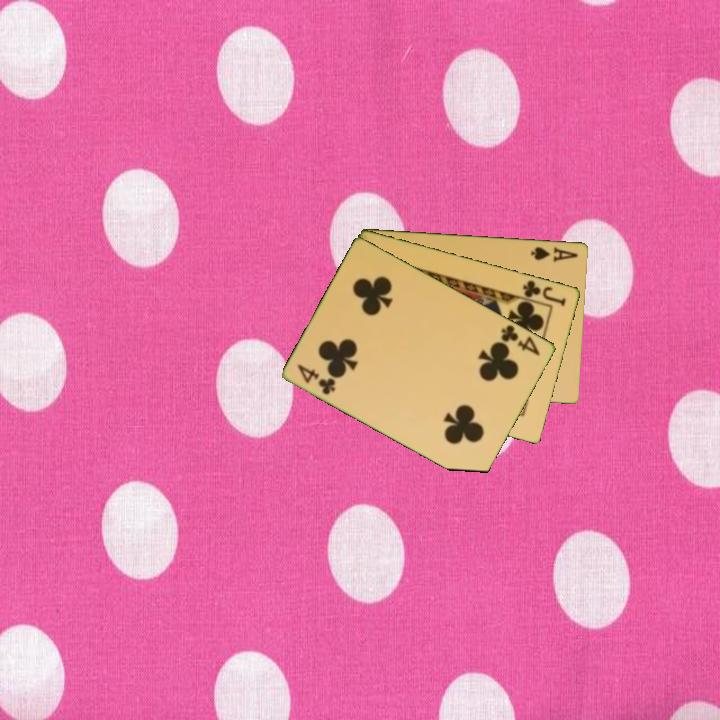4c: (498, 321, 543, 359), (294, 360, 339, 398)
As: (528, 243, 581, 265)
Jc: (519, 276, 569, 309)
